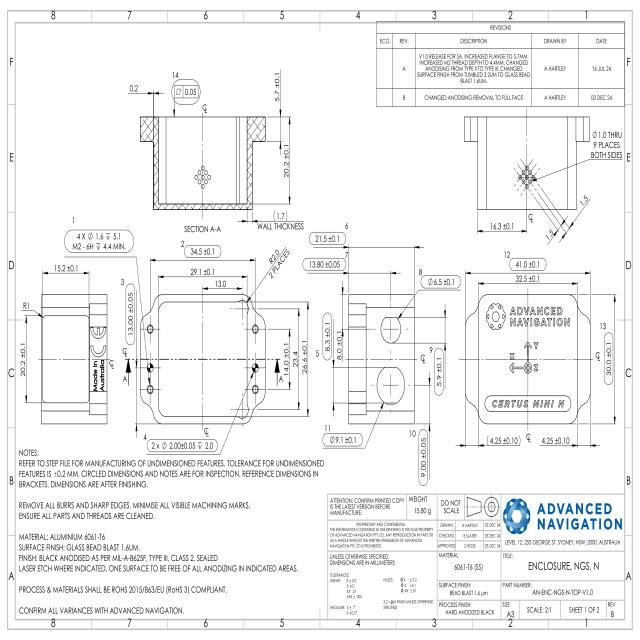dimension: (65, 231, 134, 252), (589, 128, 623, 160), (256, 210, 304, 231), (268, 246, 290, 280), (151, 440, 214, 450), (172, 84, 198, 100), (486, 434, 520, 446), (540, 434, 573, 446), (126, 290, 134, 336), (427, 276, 456, 287), (420, 436, 427, 480), (282, 342, 290, 380), (308, 260, 341, 269), (19, 342, 26, 383), (512, 259, 540, 269), (329, 434, 357, 444), (189, 247, 215, 257), (515, 274, 541, 284), (283, 143, 290, 179), (605, 342, 612, 378), (490, 221, 515, 231), (314, 234, 340, 243), (54, 264, 79, 273), (190, 267, 215, 276), (324, 321, 331, 352), (302, 339, 308, 375), (336, 330, 343, 360), (274, 70, 280, 103), (436, 357, 442, 390), (127, 83, 141, 94), (579, 192, 589, 206), (544, 227, 554, 241), (292, 349, 299, 368), (213, 279, 227, 288), (22, 302, 30, 310)
